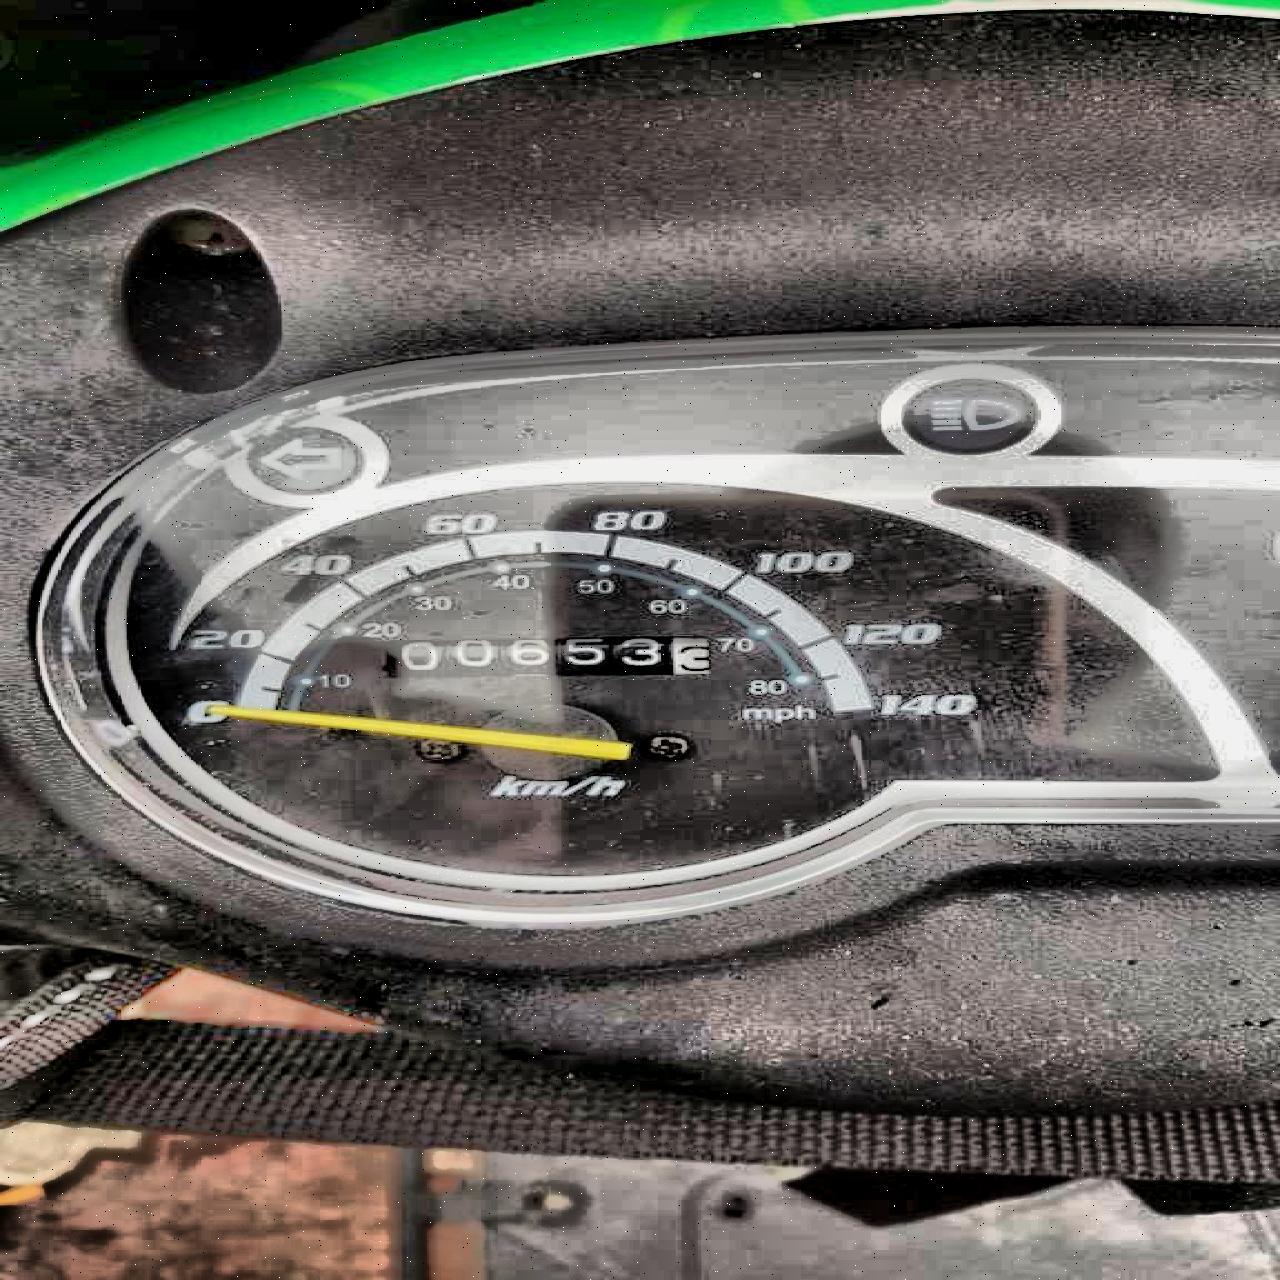0: (393, 639, 437, 670), (451, 638, 493, 667)
3: (615, 636, 660, 666), (673, 642, 712, 672)
5: (560, 636, 605, 665)
6: (508, 638, 549, 665)
odometer: (373, 633, 717, 681)
